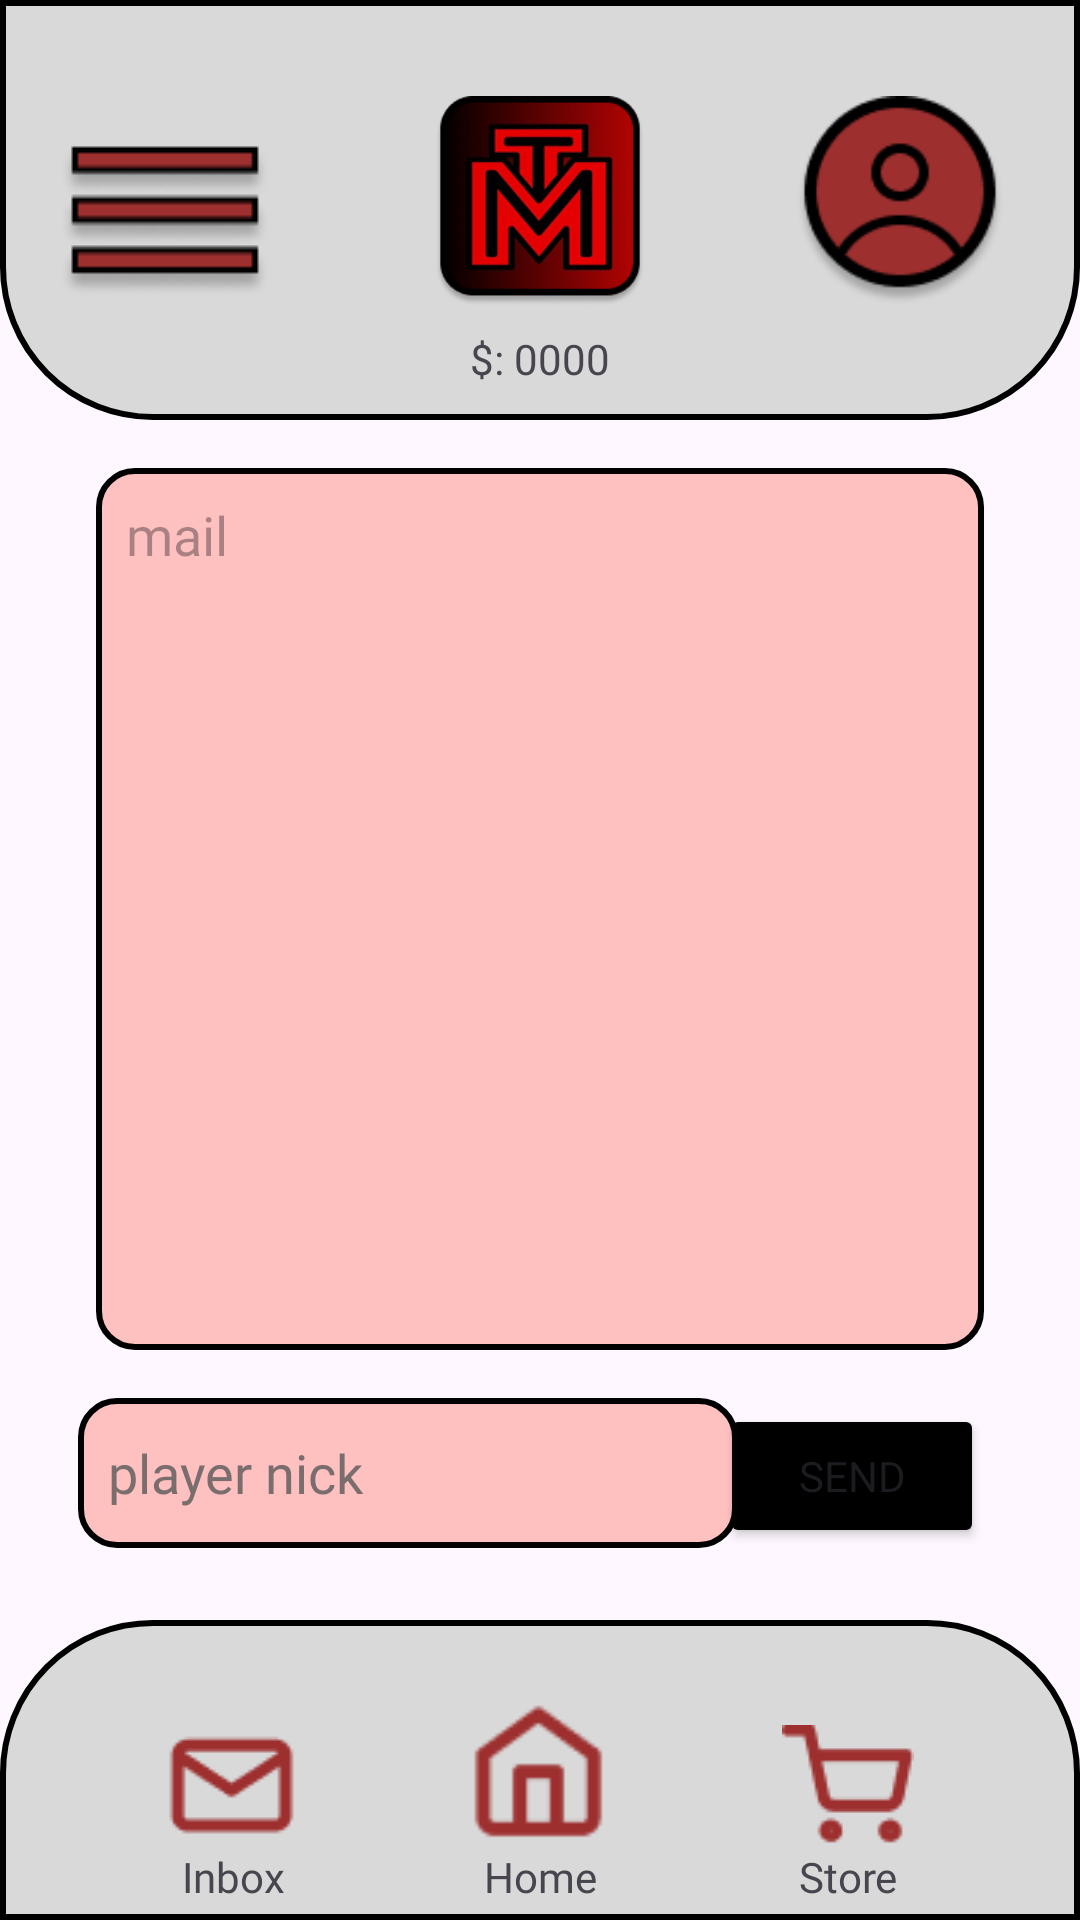

Locate icon controls on the screen. Image size 1080w x 1920h, boxes as (x1, y1, x2, y2).
hamburger menu: (71, 146, 259, 286)
mail: (170, 1737, 294, 1834)
shopping cart: (782, 1725, 914, 1843)
